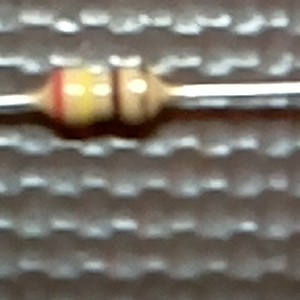brown_band: (106, 65, 126, 121)
gold_band: (131, 66, 154, 124)
red_band: (48, 66, 66, 127)
yellow_band: (73, 66, 97, 127)
